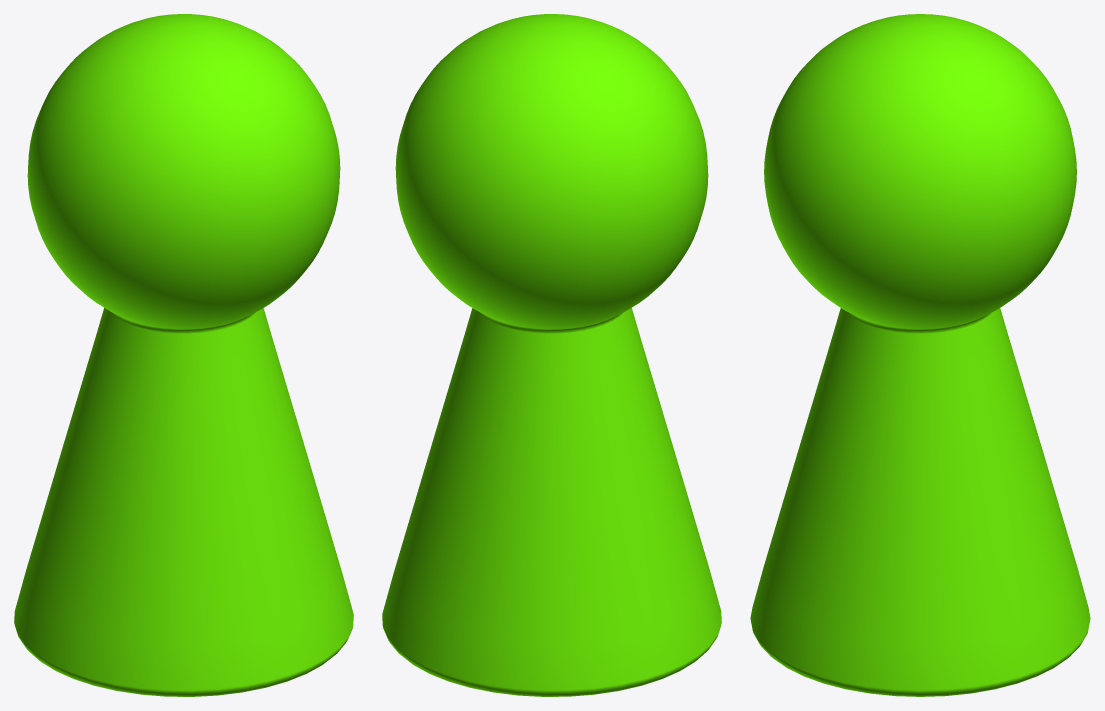
Rendered from human.fbx.
The picture shows the model from 3 angles, left to right: view 1: azimuth 30°, elevation 25°; view 2: azimuth 150°, elevation 25°; view 3: azimuth 270°, elevation 25°; orthographic projection.
Visible parts, largest first — view 1: polySurface1; view 2: polySurface1; view 3: polySurface1.
Part boxes in pixels (<box>): polySurface1: <box>14,14,353,696</box>; polySurface1: <box>382,14,721,696</box>; polySurface1: <box>750,14,1090,696</box>.
Size of the model in its own units: 1.38 by 2.7 by 1.38.
